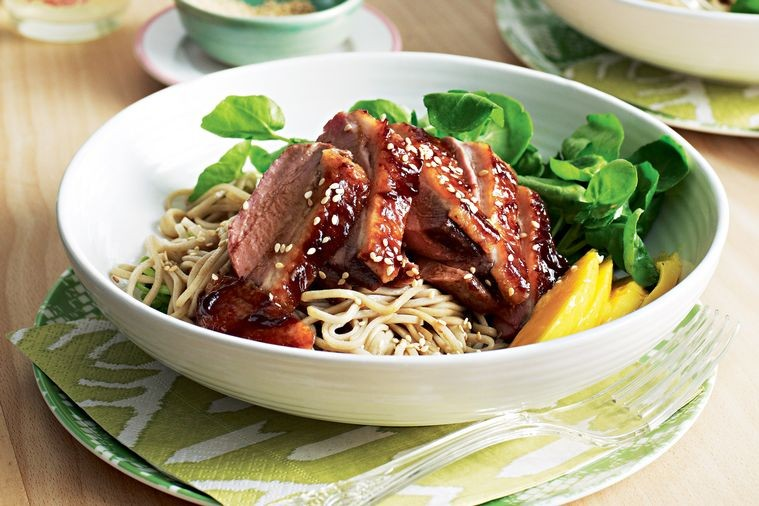Soba: (137, 156, 520, 373)
